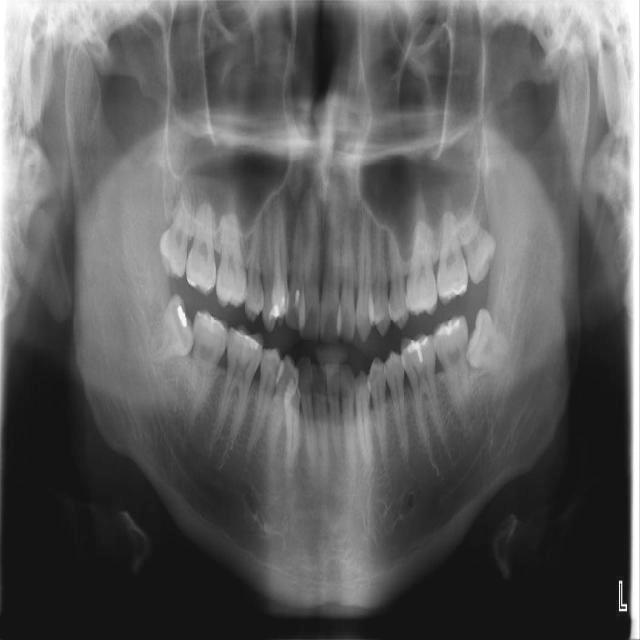Filling: (404, 333, 429, 364), (268, 290, 289, 321), (434, 318, 460, 342), (233, 329, 259, 352), (198, 312, 225, 333), (441, 283, 467, 303), (172, 303, 189, 331), (290, 286, 303, 309)
impacted tooth: (145, 299, 194, 370), (467, 308, 515, 377), (456, 210, 496, 285), (158, 191, 193, 274)
